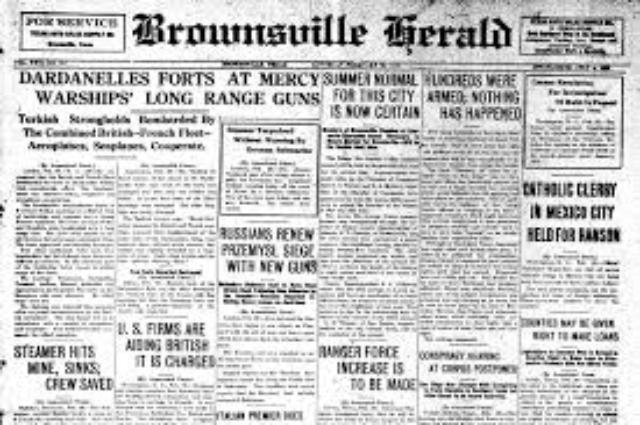cardboard paper: (9, 1, 631, 425)
